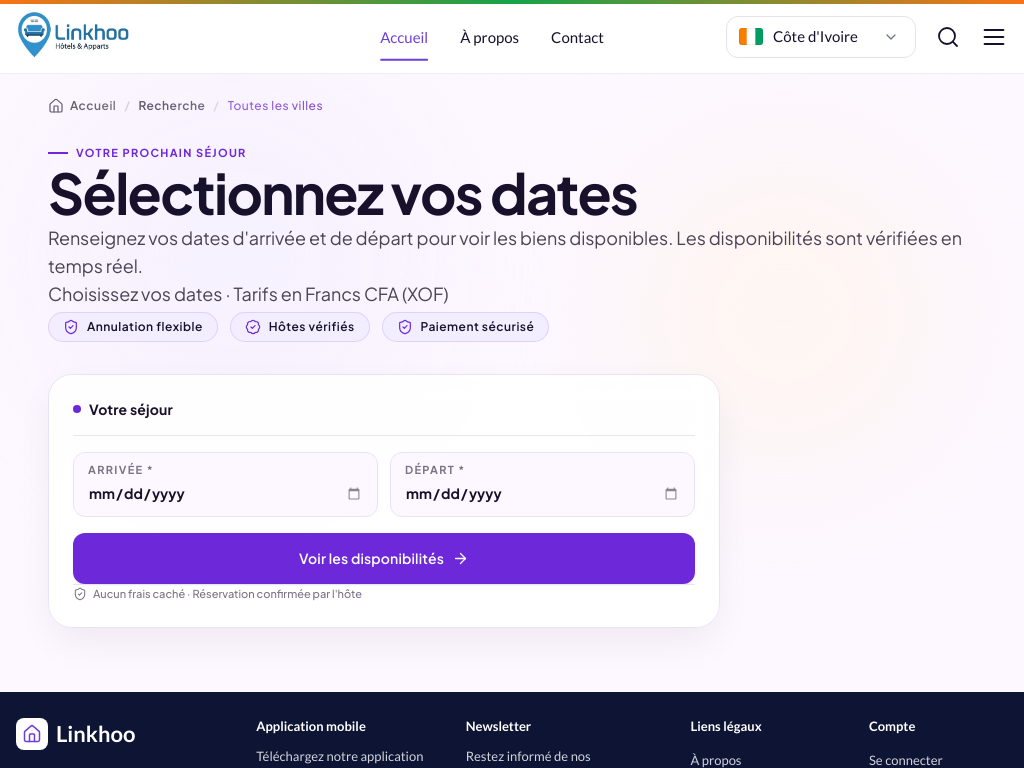
SearchResultsPage — panneau de dates › refuse un départ antérieur ou égal à l’arrivée
Check: the heading "Sélectionnez vos dates" is shown, box left=48, top=157, right=637, bottom=227
Type "2026-03-04" into the date field labelled "Arrivée *".
click(226, 494); type("2026-03-04")  # box left=88, top=481, right=363, bottom=506
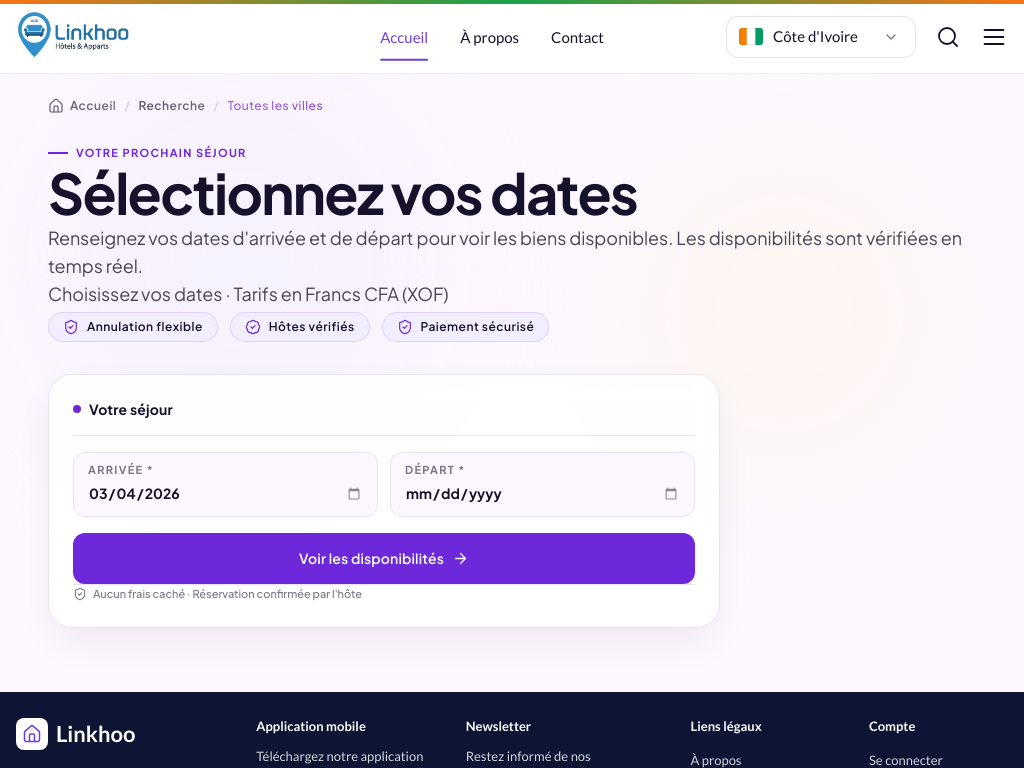
Type "2026-03-01" into the date field labelled "Départ *".
click(542, 494); type("2026-03-01")  # box left=405, top=481, right=680, bottom=506
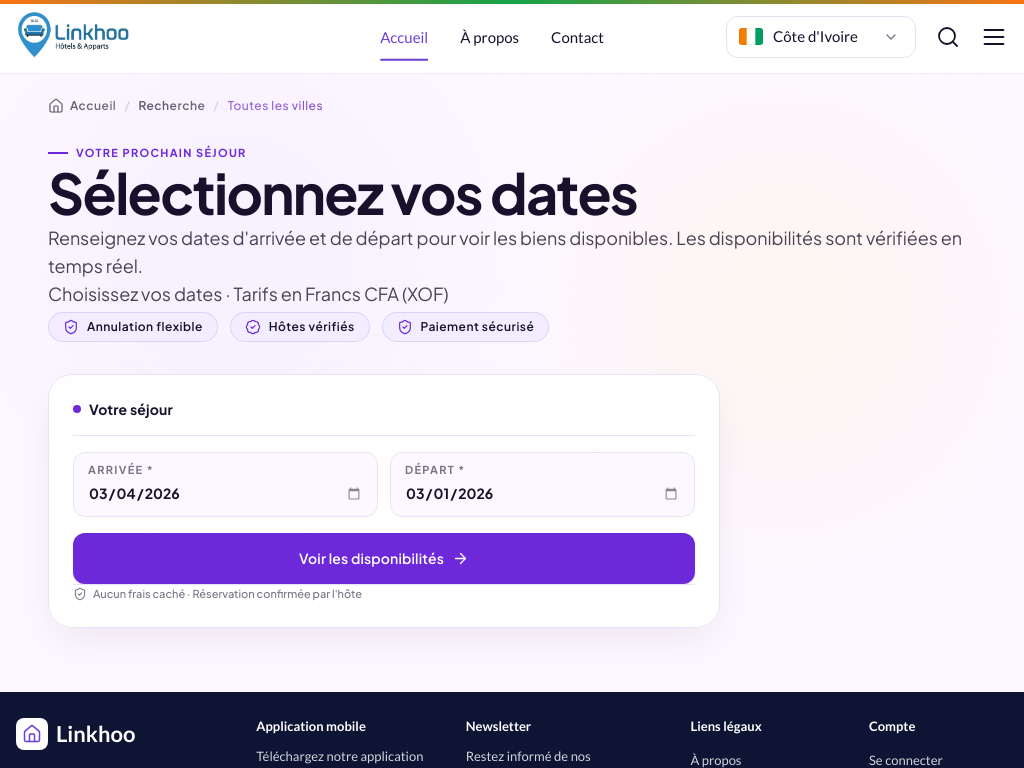
Click the button "Voir les disponibilités".
click(384, 559)  # box left=73, top=533, right=695, bottom=584
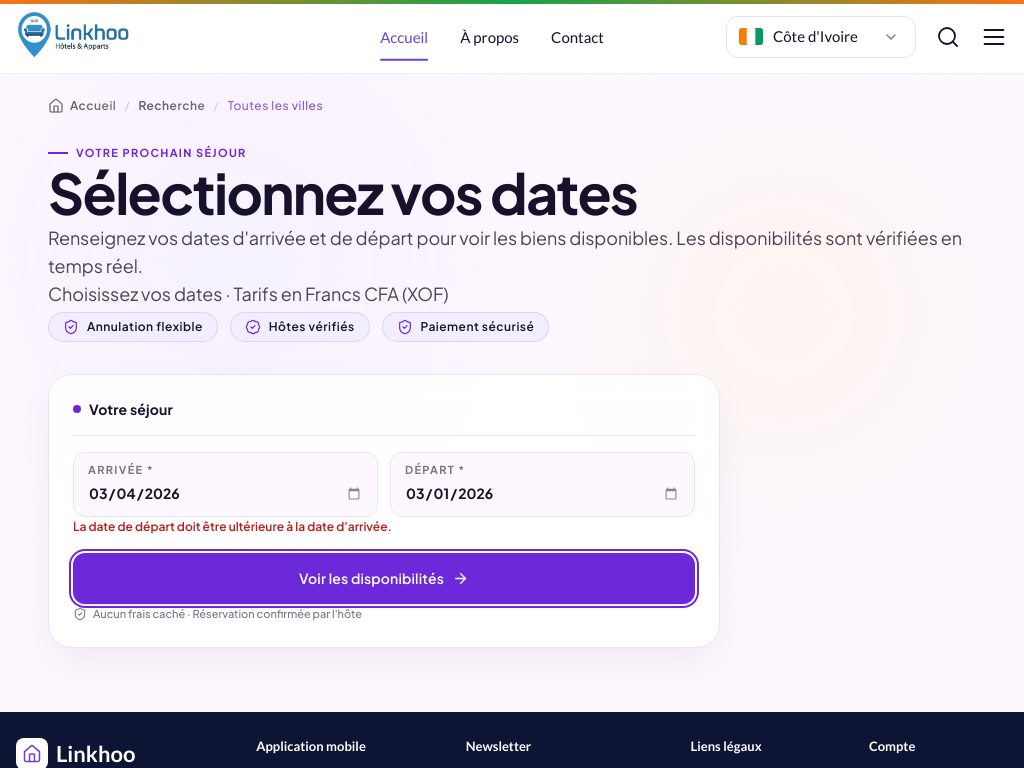
Check: the message reads "La date de départ doit être ultérieure à la date d'arrivée.", box left=73, top=519, right=392, bottom=534
